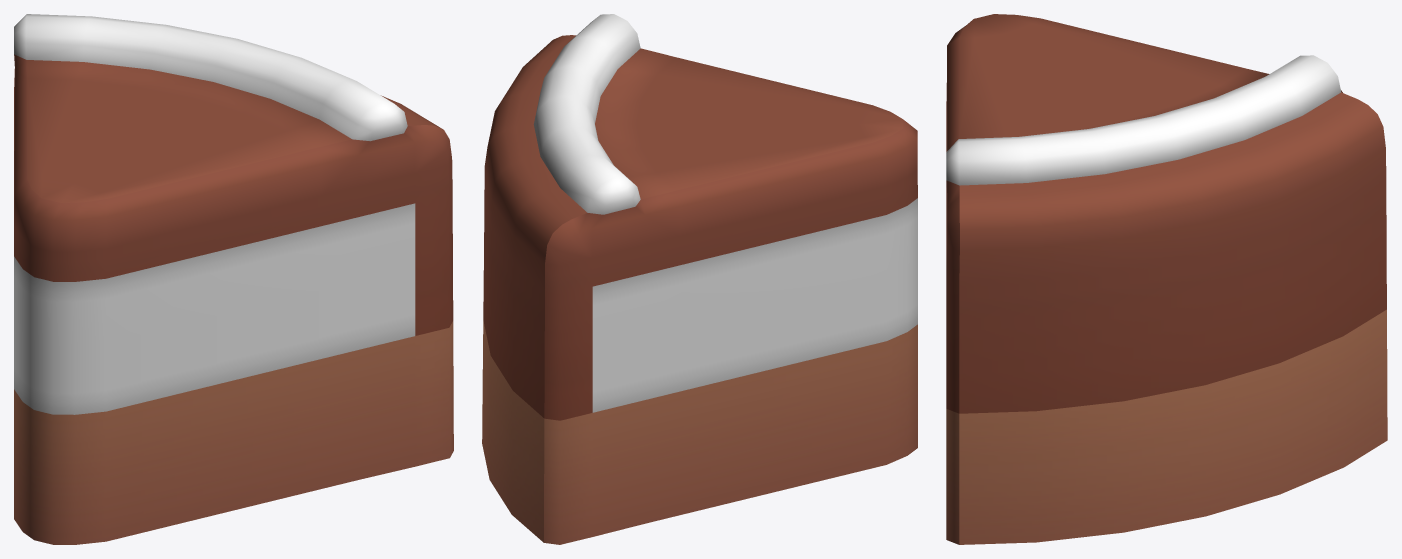
Rendered from cake05_slice.FBX.
3 views of the same model, side by side, from view 1: azimuth 30°, elevation 25°; view 2: azimuth 150°, elevation 25°; view 3: azimuth 270°, elevation 25° (orthographic). The views are drawn at different scales.
Parts seen in each view (by area): view 1: cake05_slice; view 2: cake05_slice; view 3: cake05_slice.
Part boxes in pixels (x1,y1,x2,y2): cake05_slice: [14, 14, 453, 544]; cake05_slice: [482, 14, 917, 544]; cake05_slice: [946, 14, 1387, 544].
Size of the model in its own units: 0.00875 by 0.00752 by 0.0082.
